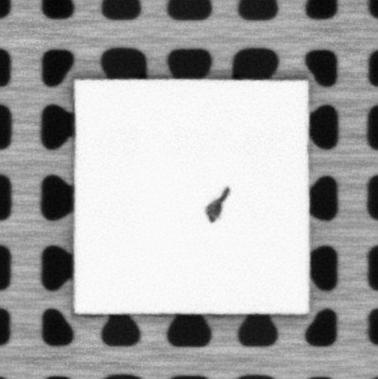DIE_INK: (204, 186, 232, 223)
